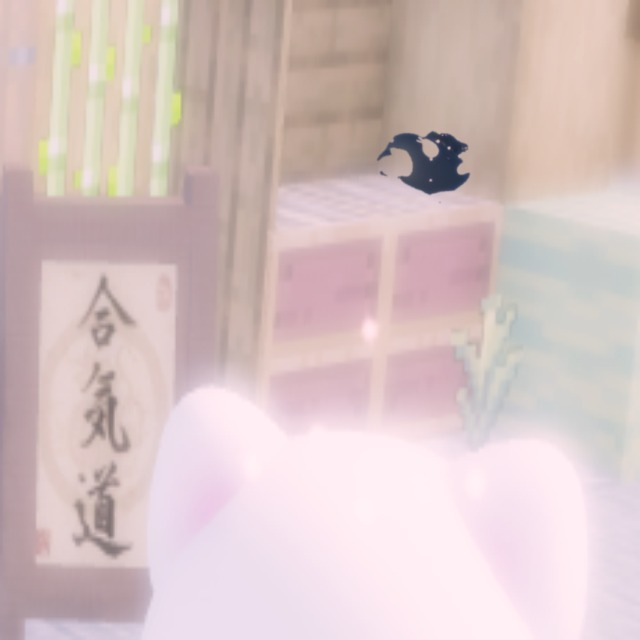urso_preto: (356, 104, 496, 220)
